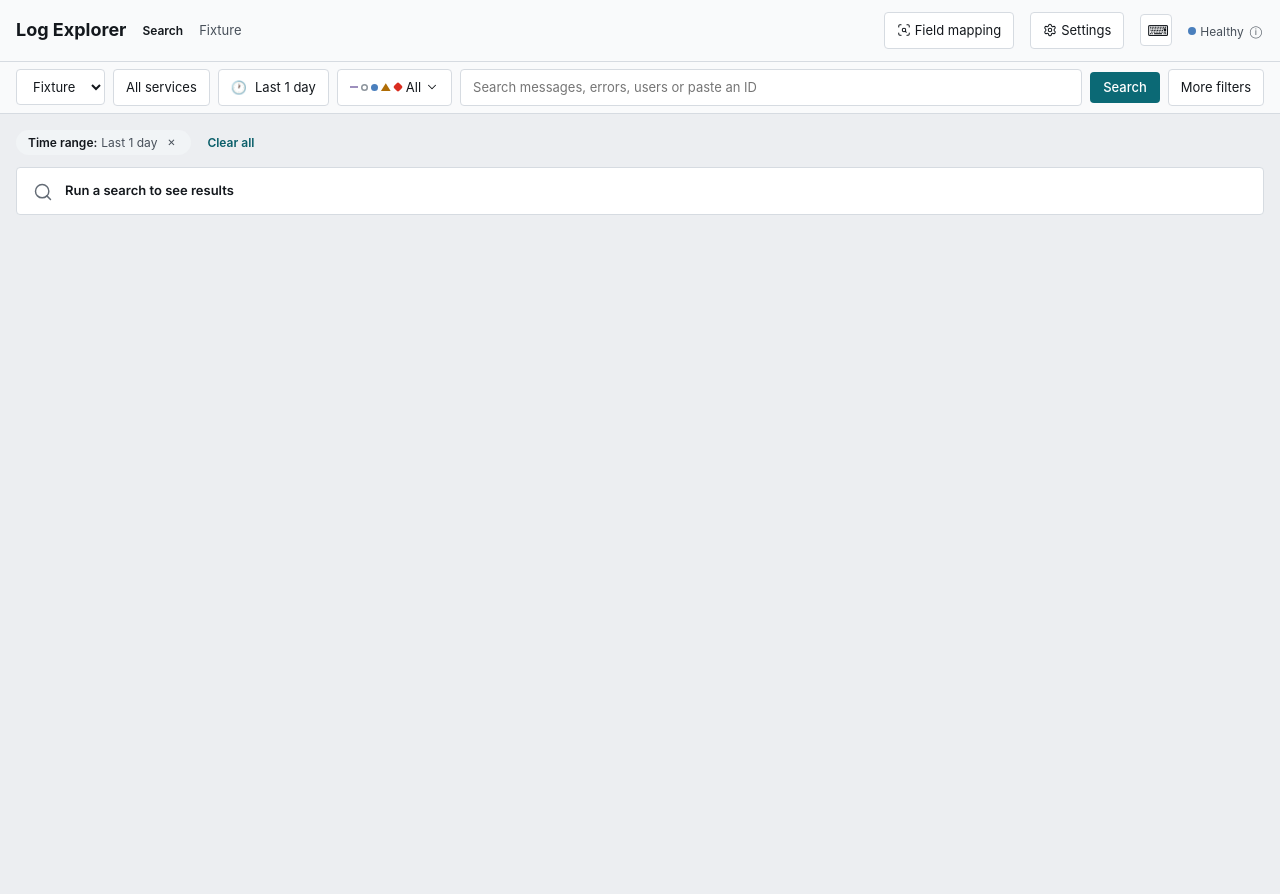
Test: App - Classification rules workspace takeover › opens from Settings, replaces the results workspace, is mutually exclusive with field mapping, and closes back
Expected: the dropdown named "source" shows "Fixture", [16,69,105,105]
Step 1. Click the button "Settings" → (1077,30), box [1030,12,1124,49]
(page scrolled)
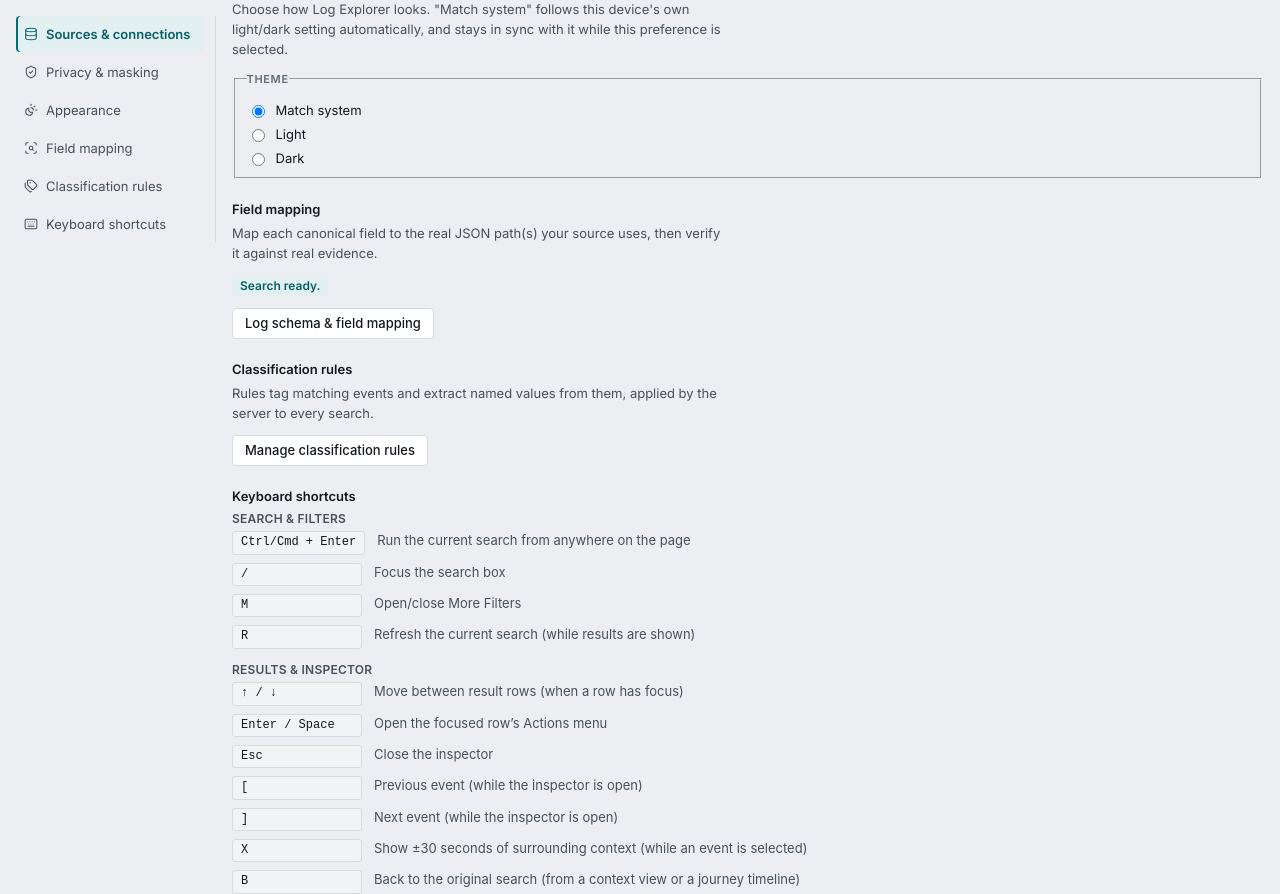
Step 2. Click the button "Manage classification rules" → (330,450), box [232,435,428,466]
(page scrolled)
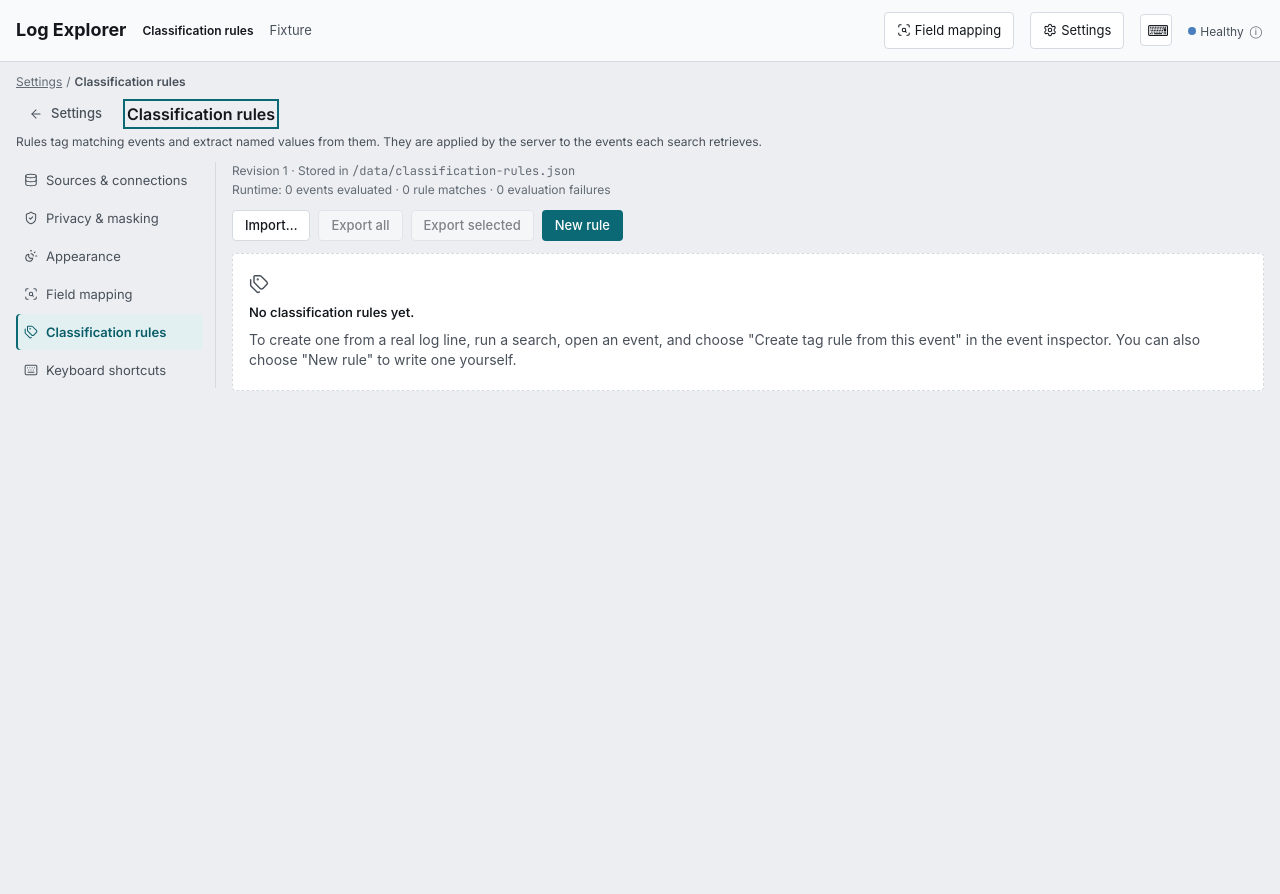
Expected: the text "Run a search to see results" is not shown
Expected: the element with test id "classification-rules-workspace" is shown, [0,62,1279,407]
Expected: the text "No classification rules yet." is shown, [249,302,414,322]
Step 3. Click the button "Field mapping" in the row of "Healthy" → (949,30), box [884,12,1014,49]
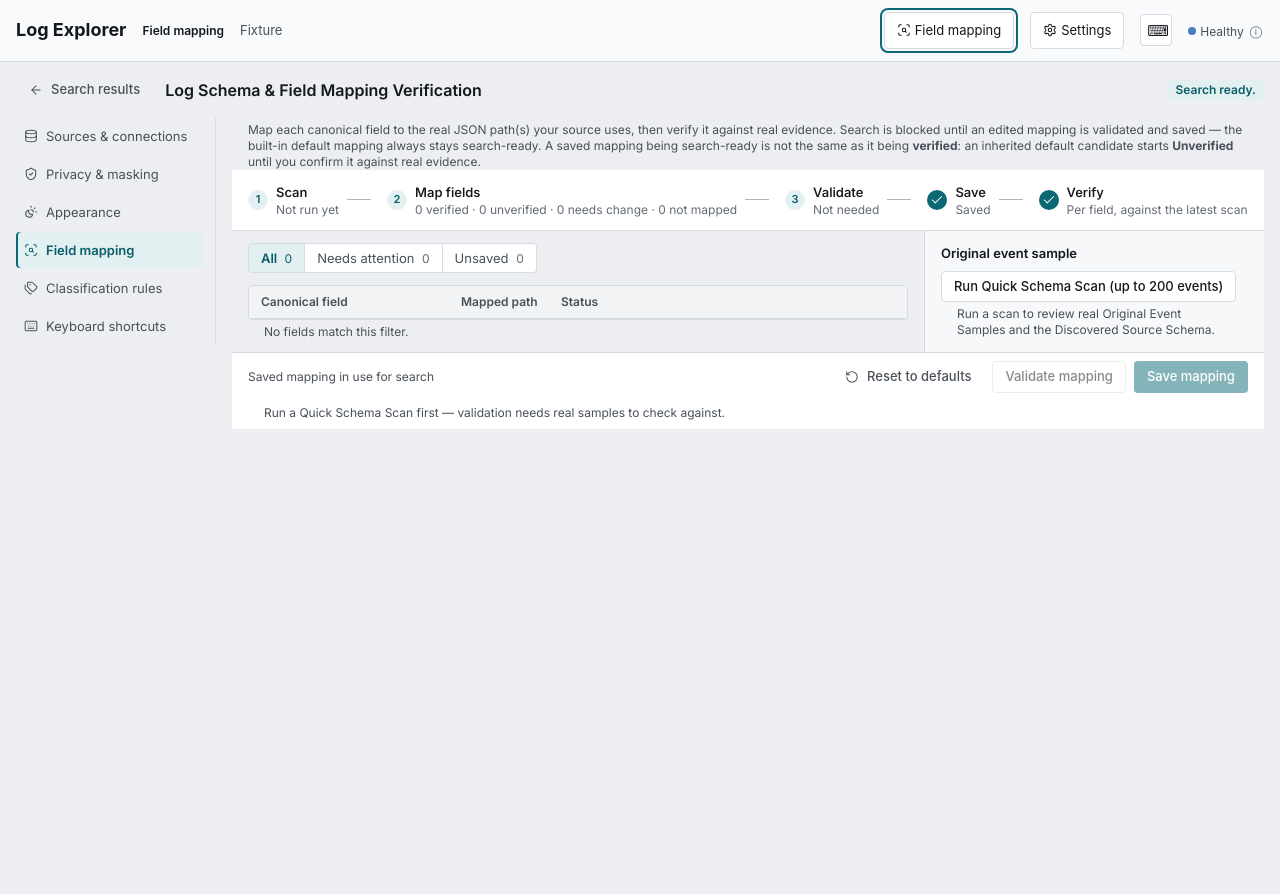
Expected: the element with test id "field-mapping-workspace" is shown, [0,62,1279,445]
Expected: the element with test id "classification-rules-workspace" is gone
Step 4. Click the button "Settings" → (1077,30), box [1030,12,1124,49]
(page scrolled)
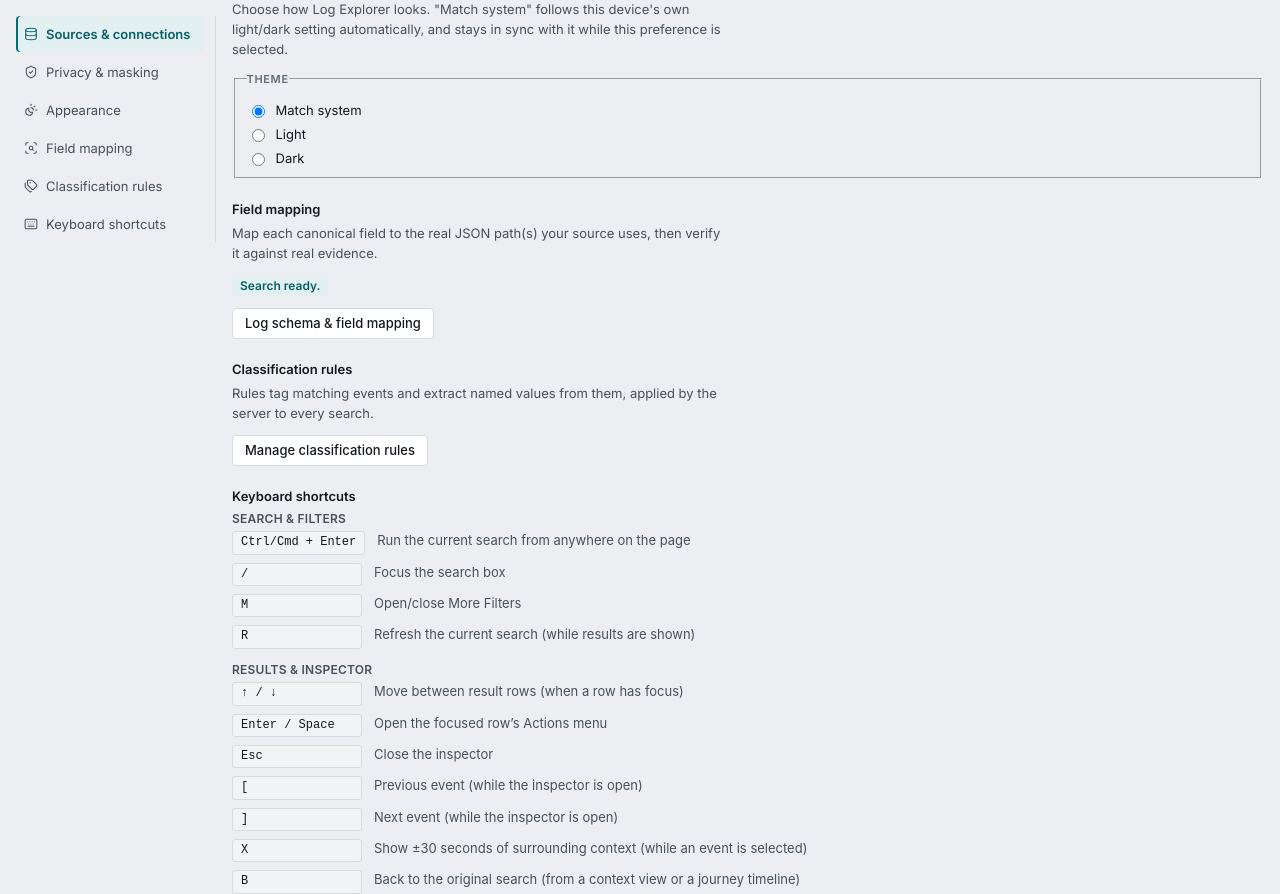
Expected: the element with test id "field-mapping-workspace" is gone
Step 5. Click the button "Manage classification rules" → (330,450), box [232,435,428,466]
(page scrolled)
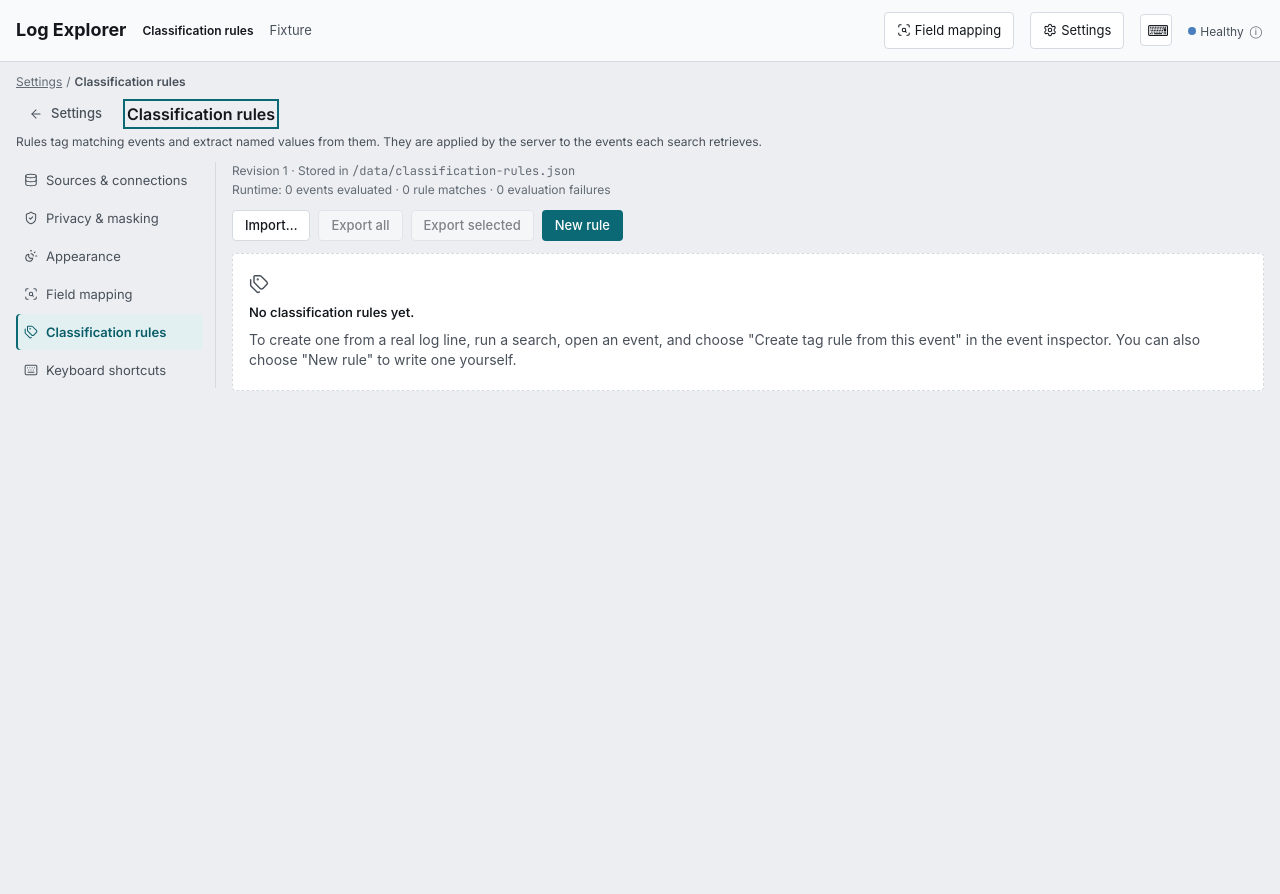
Expected: the element with test id "classification-rules-workspace" is shown, [0,62,1279,407]
Step 6. Click the button with aria-label "Back to Settings" → (66,114), box [16,98,115,130]
(page scrolled)
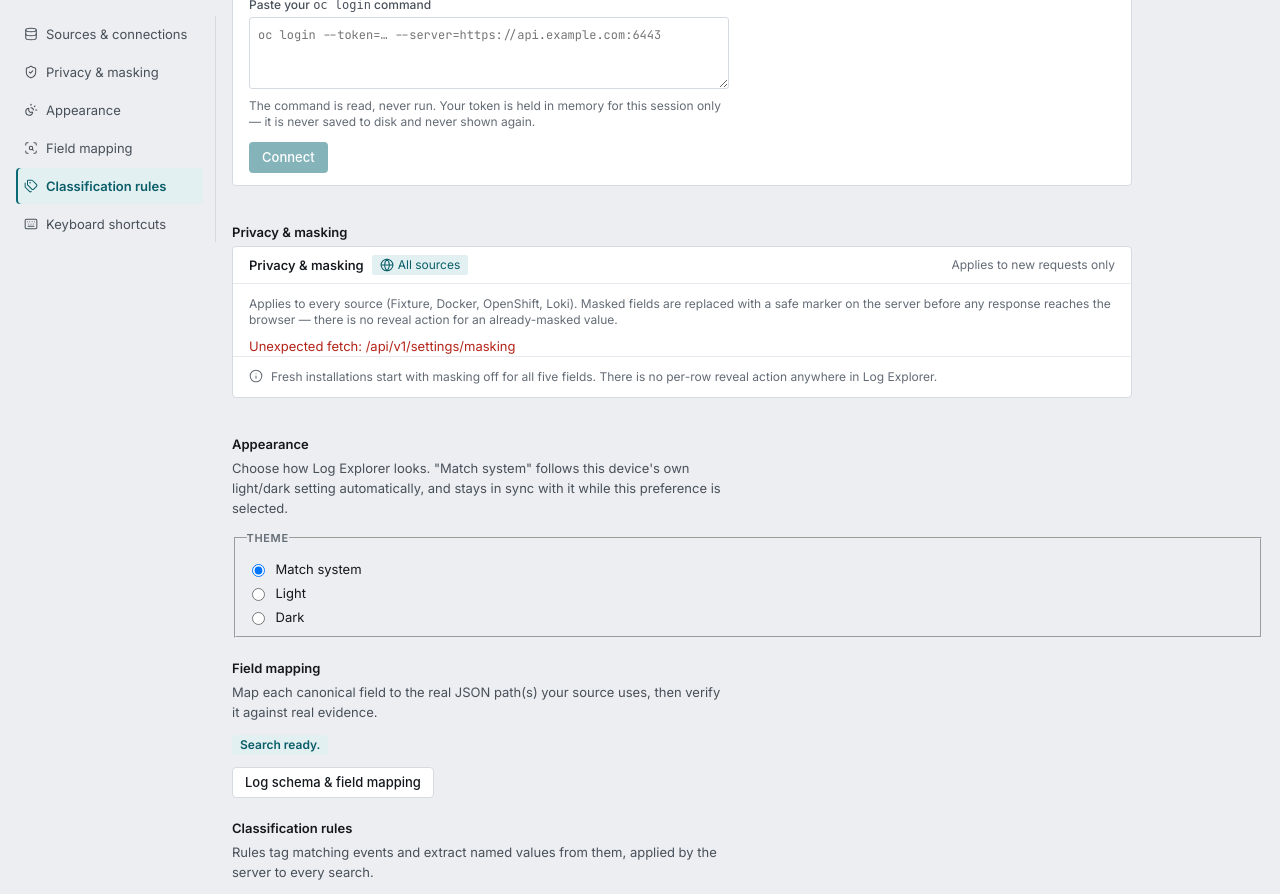
Expected: the element with test id "classification-rules-workspace" is gone
